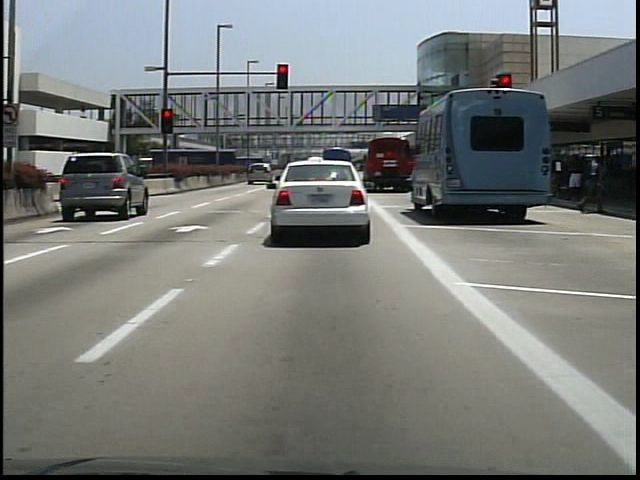person: (576, 149, 606, 214), (565, 152, 585, 202)
